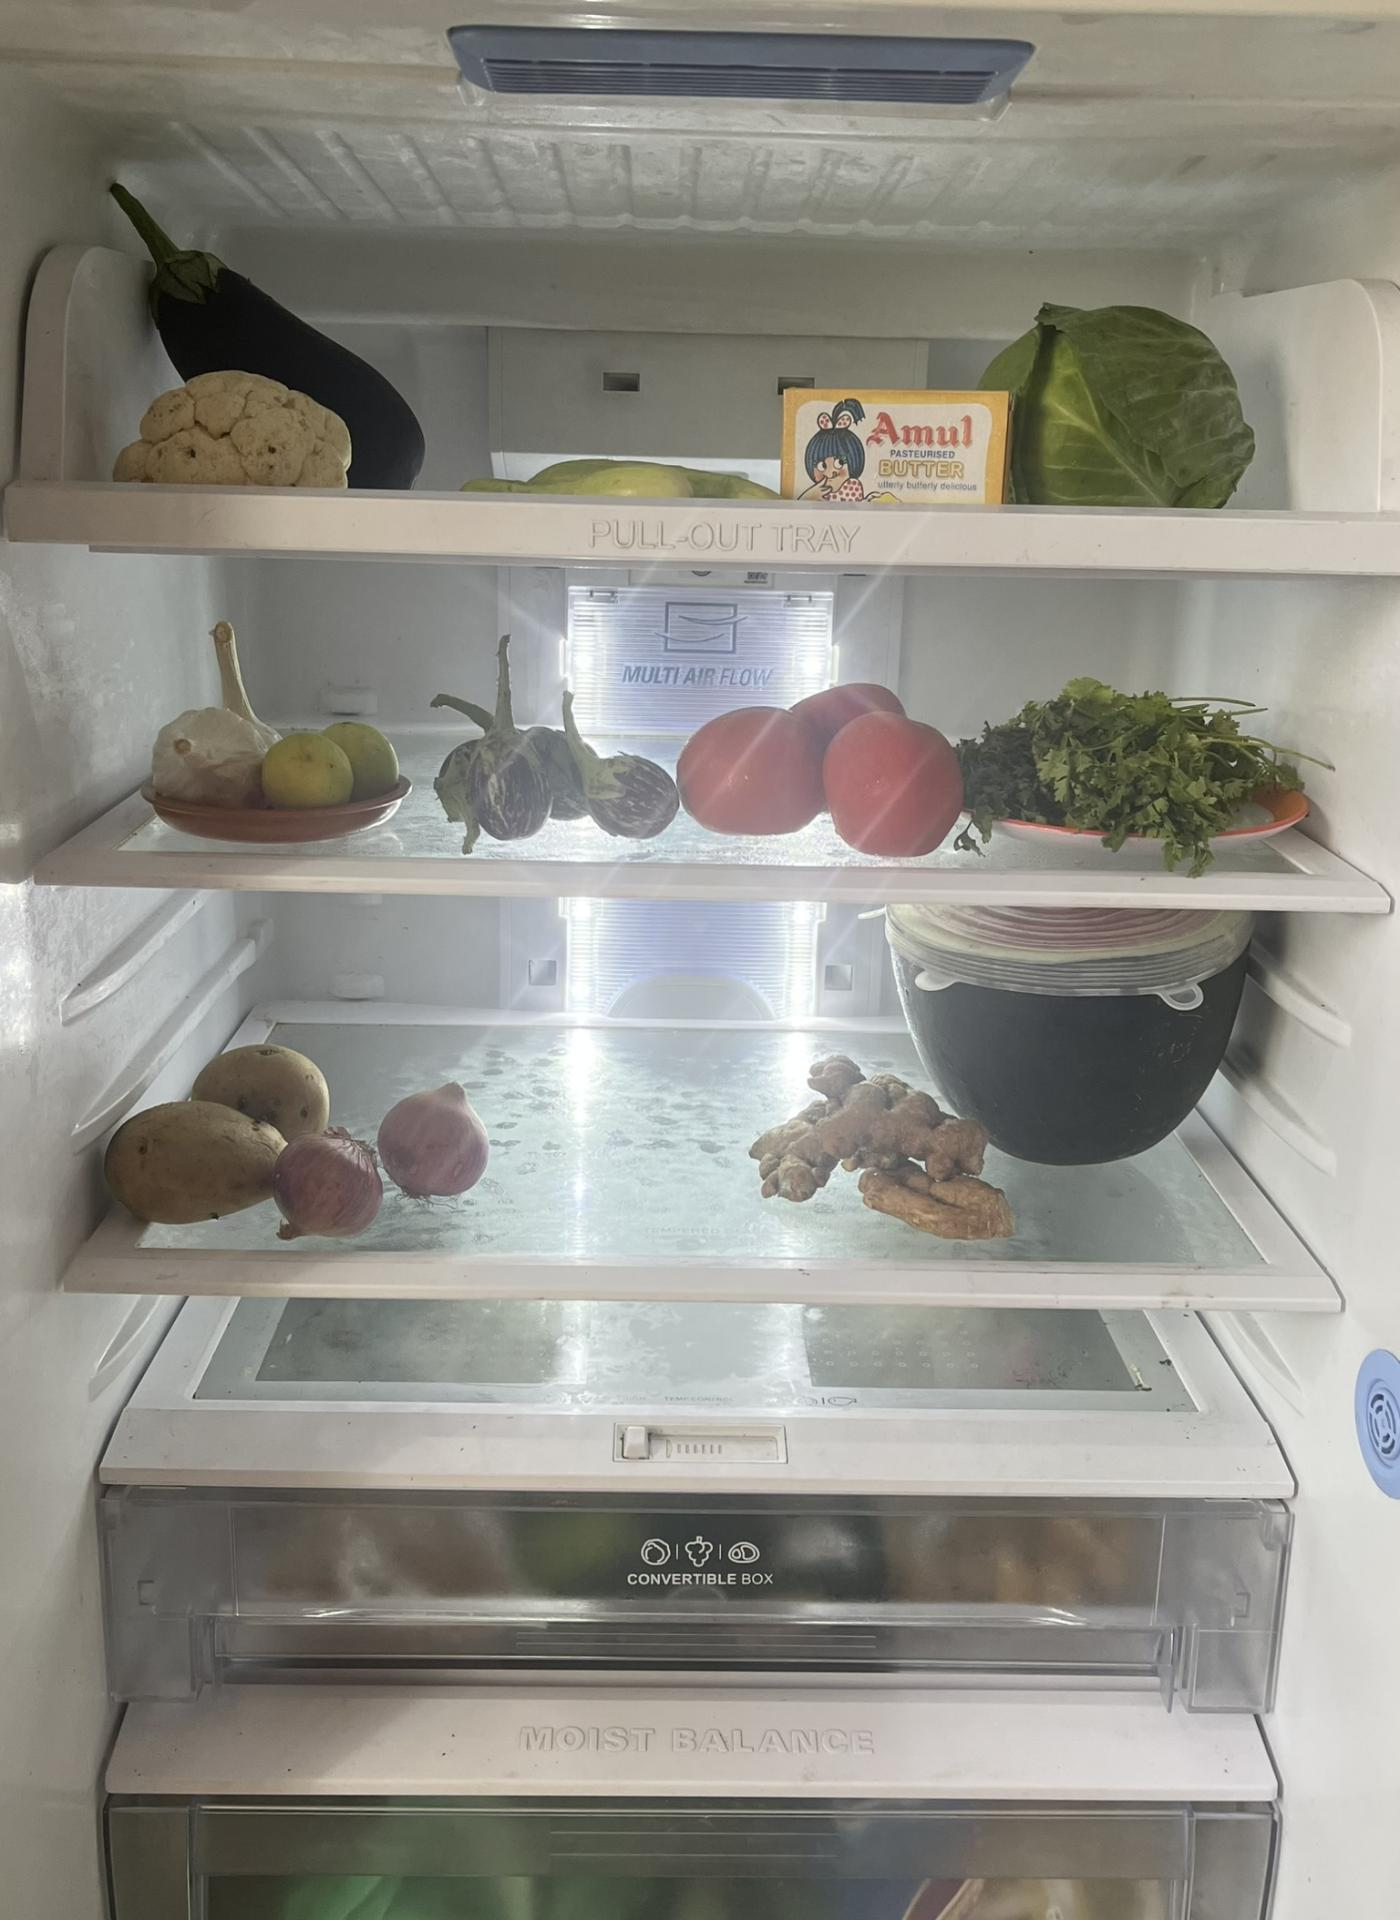butter: (790, 386, 1000, 511)
cabbage: (977, 301, 1243, 505)
cauliflower: (119, 368, 356, 486)
coriander: (981, 695, 1270, 836)
garlic: (148, 638, 274, 805)
ginger: (772, 1070, 1009, 1231)
lemon: (265, 723, 394, 796)
onion: (271, 1079, 480, 1240)
potato: (116, 1033, 329, 1215)
tomato: (689, 686, 963, 847)
watermelon: (886, 911, 1246, 1163)
